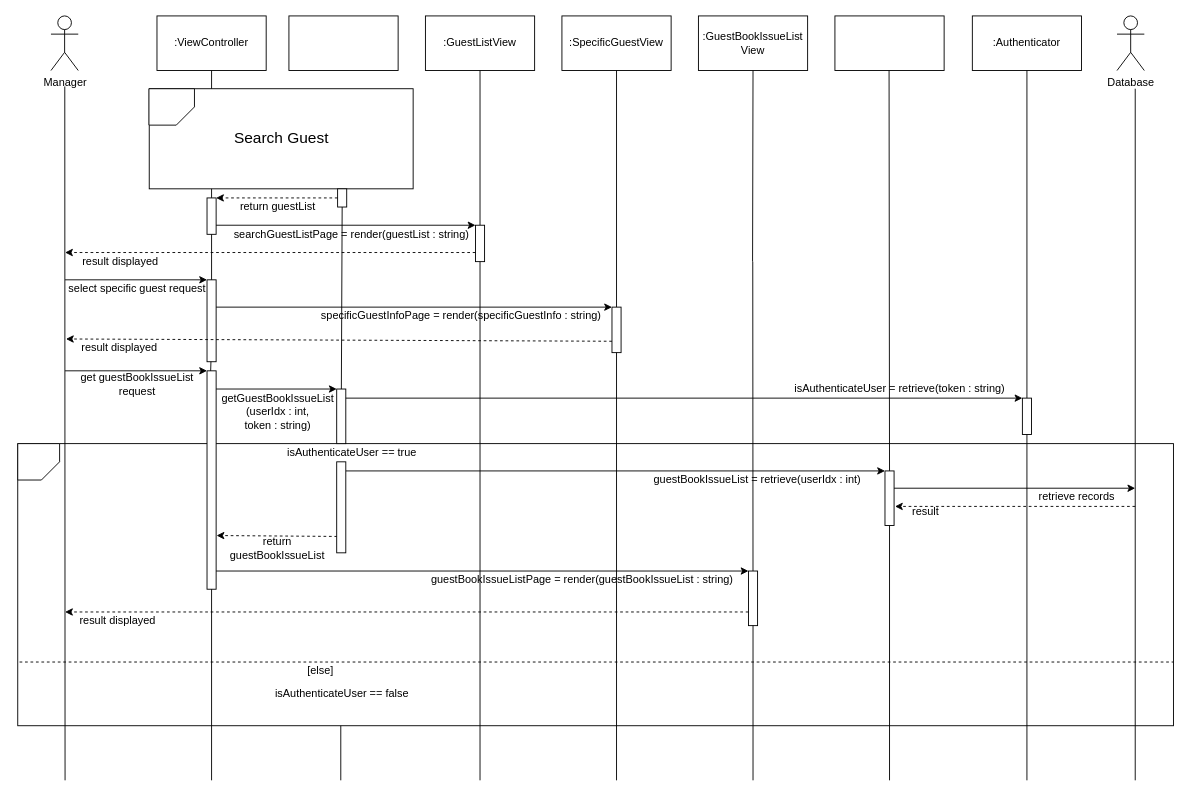
The diagram is 1190 pixels wide and 797 high, and some of its shapes have lost their labels. Each missing label, with the box of its shape:
:Controller: (288, 15, 398, 71)
:DatabaseConnection: (834, 15, 944, 71)
alt: (17, 443, 60, 480)
ref: (148, 88, 194, 125)
